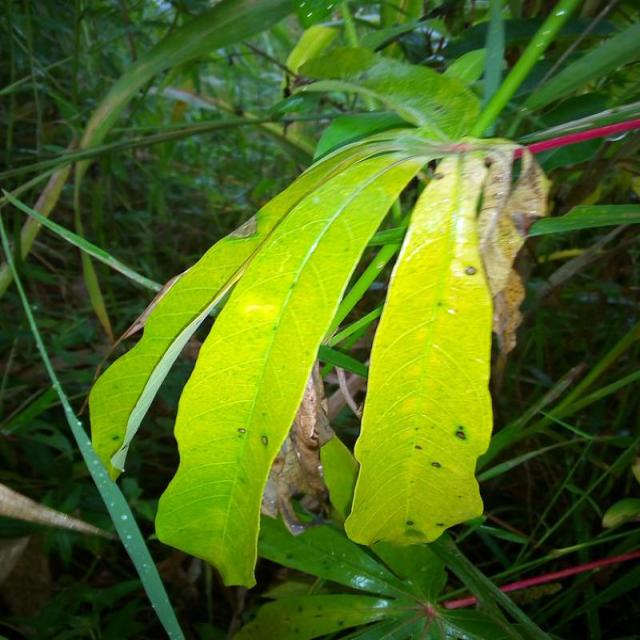cassava leaf: (151, 128, 446, 589), (342, 148, 497, 548)
